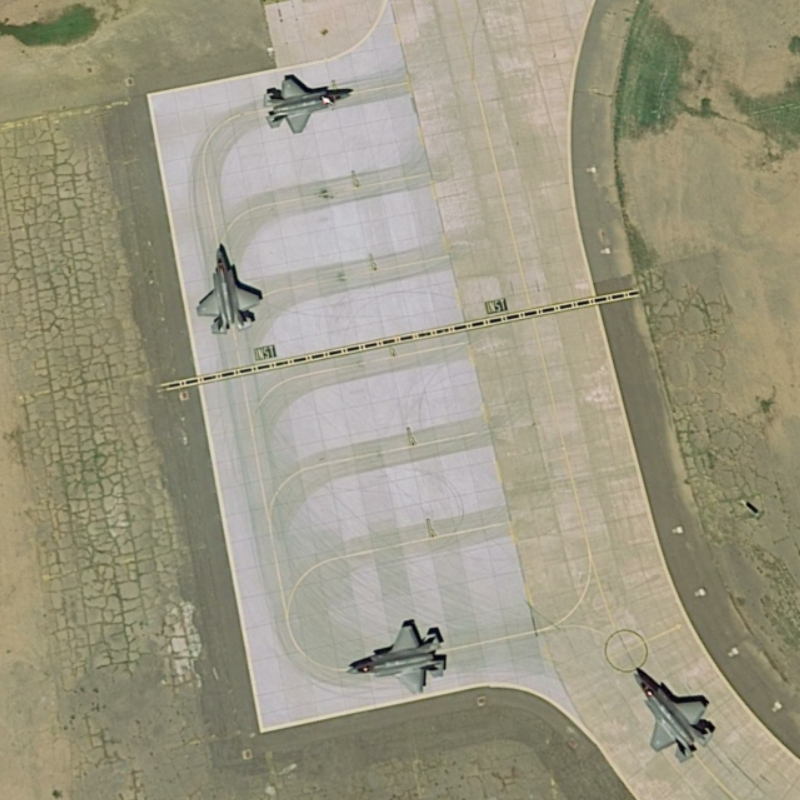A15: (629, 666, 721, 767), (343, 617, 449, 699), (257, 68, 360, 139), (195, 243, 264, 338)
